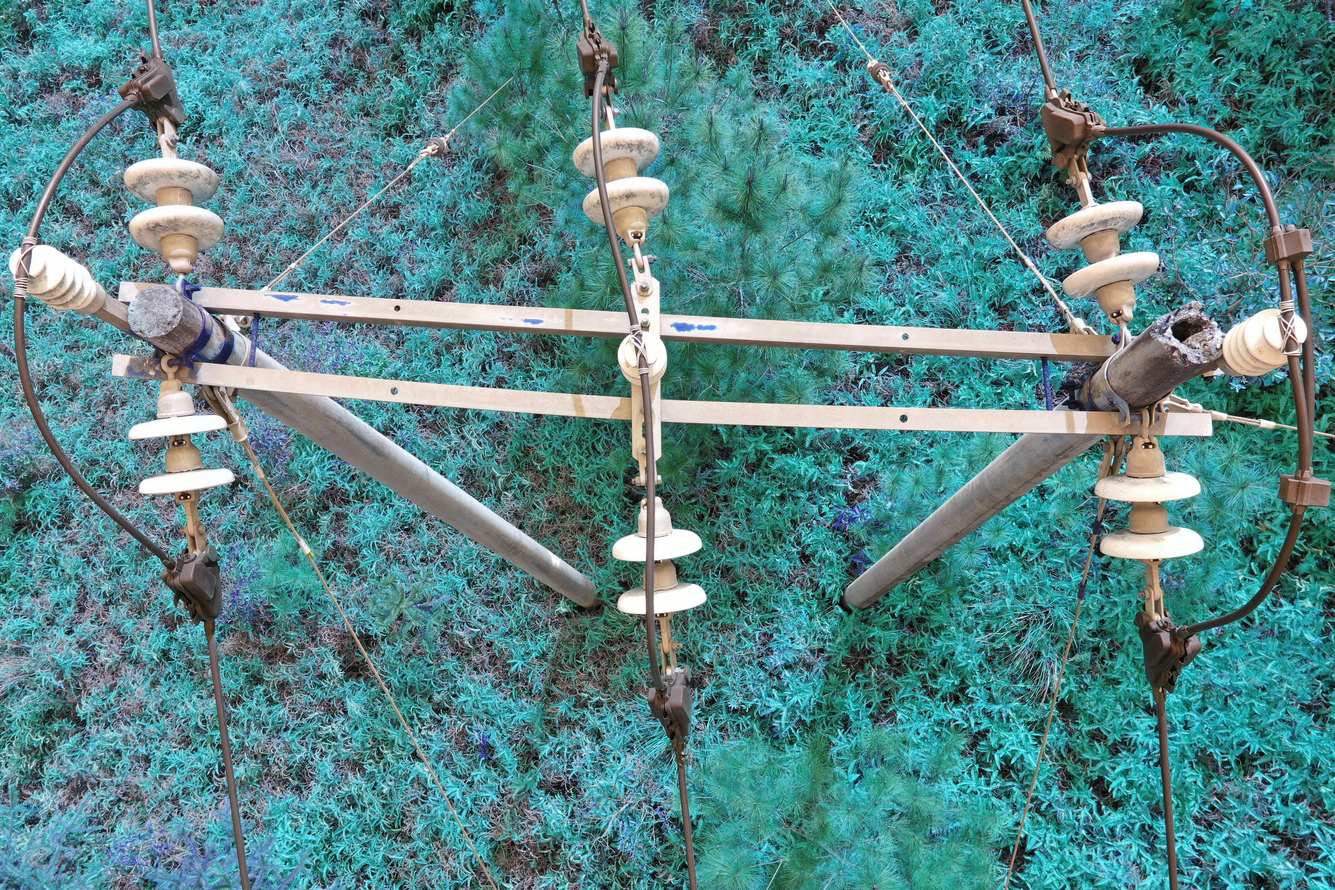severe_soiling_no_discharge_whole: (1038, 196, 1167, 327), (1094, 429, 1208, 560), (570, 122, 677, 250), (121, 154, 224, 276), (3, 242, 111, 319)
